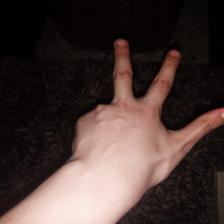three: (80, 39, 222, 169)
